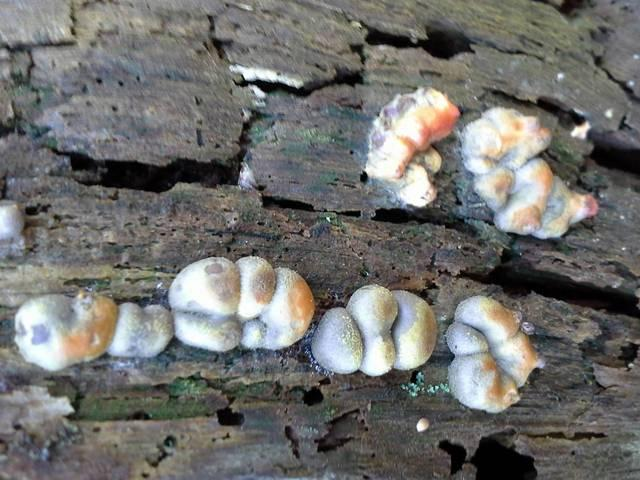Non-edible Mushroom: (13, 252, 545, 413), (459, 105, 598, 240), (167, 254, 314, 352), (362, 85, 461, 208), (445, 293, 545, 413), (311, 282, 437, 376), (12, 288, 118, 372), (167, 255, 241, 352), (240, 265, 315, 351), (459, 105, 551, 175), (345, 283, 398, 376), (390, 288, 438, 371), (106, 300, 174, 358), (310, 305, 363, 374)
